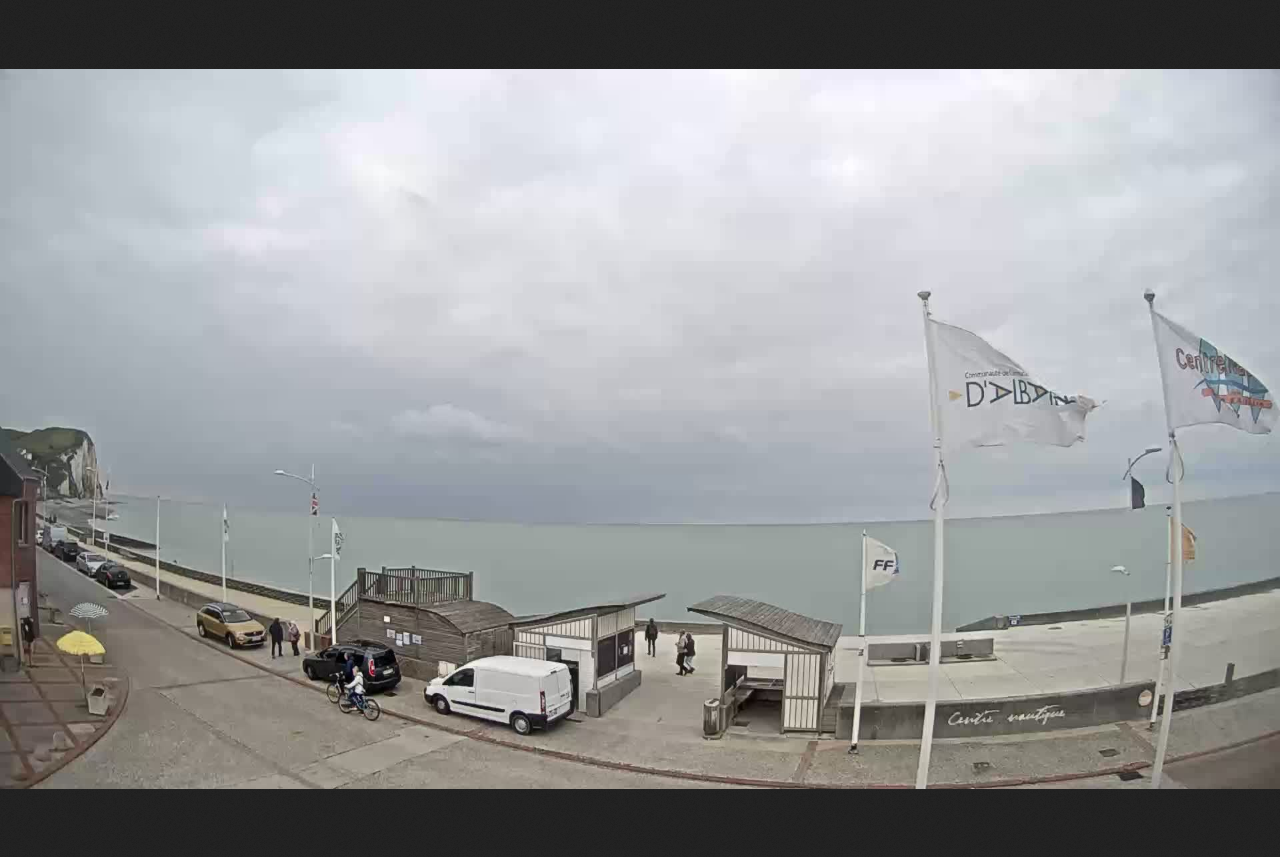yes: (922, 304, 1099, 461), (1146, 302, 1279, 442), (861, 532, 901, 594)
